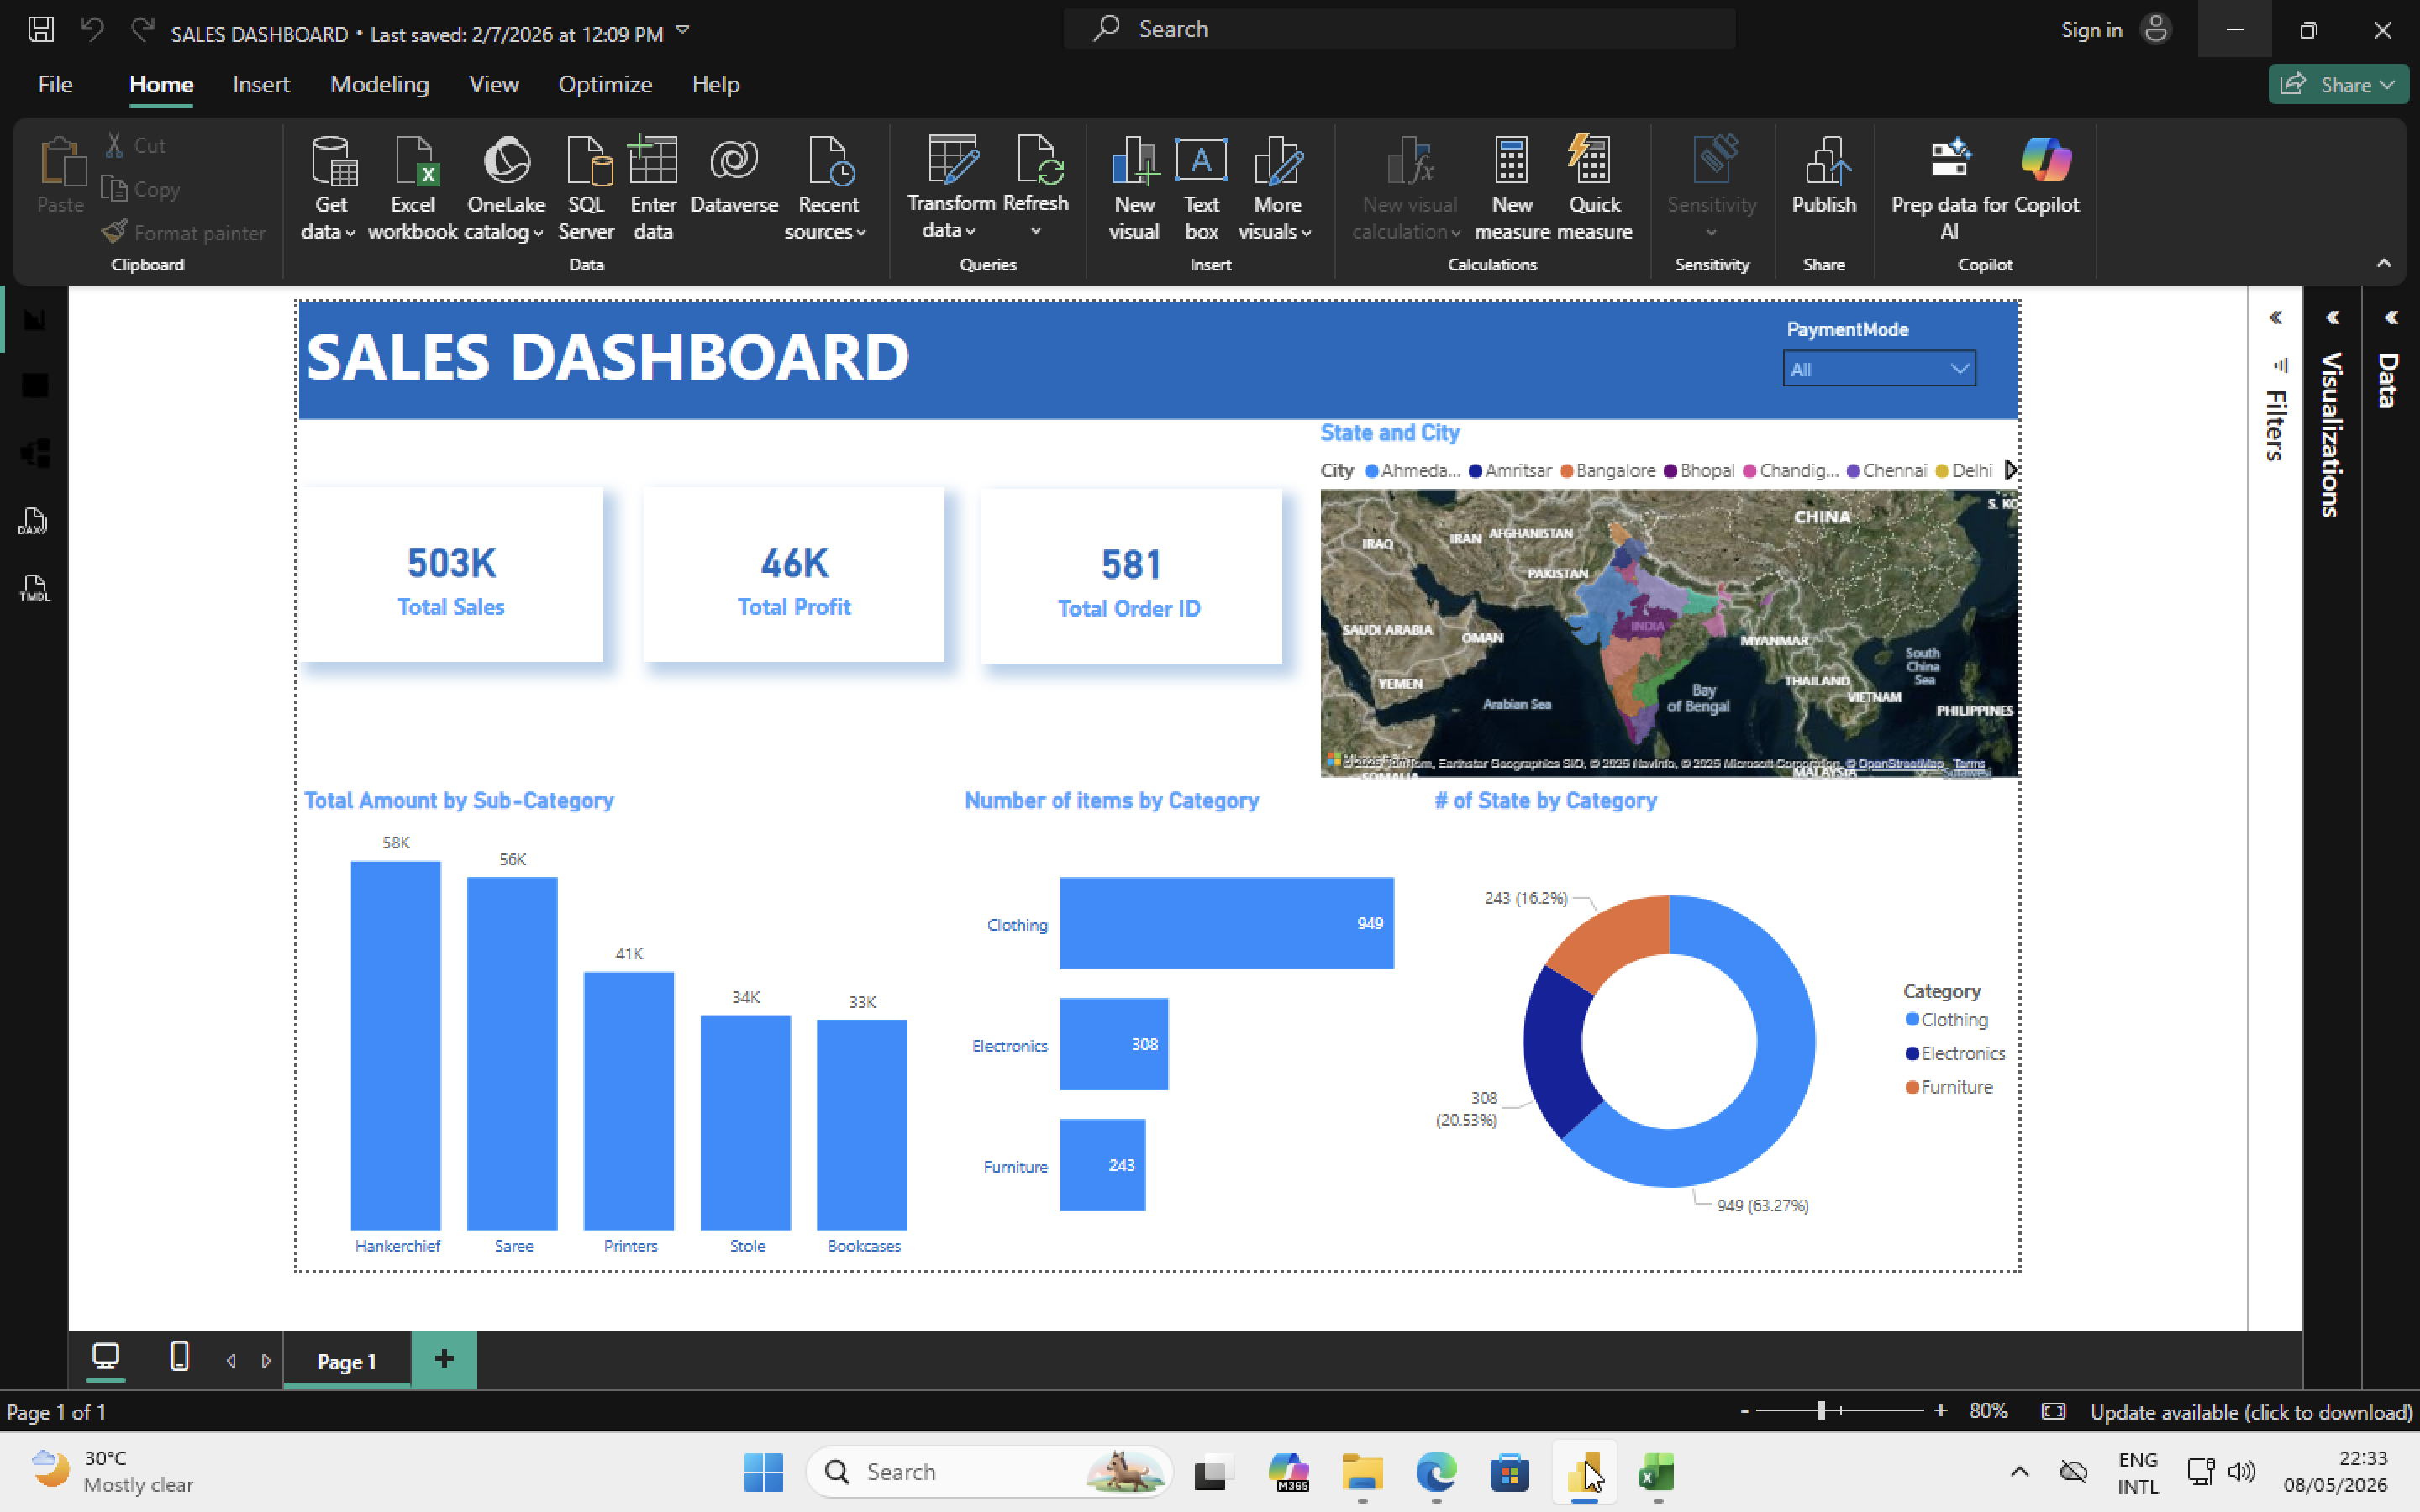

The dashboard page shown, as its layout file describes it:
{"tool":"powerbi","page":{"name":"Page 1","canvas":[1280,720],"ordinal":0},"visuals":[{"type":"card","fields":{"Values":["Budget_1.Total Sales"]},"box":[1.4,137.1,225.7,130],"z":0},{"type":"card","fields":{"Values":["Budget_1.Total Profit"]},"box":[257.1,137.1,224.3,130],"z":1000},{"type":"card","fields":{"Values":["Count(Details_1.Order ID)"]},"box":[508.6,138.6,224.3,130],"z":2000},{"type":"filledMap","fields":{"Category":["Budget_1.State"],"Series":["Budget_1.City"]},"box":[756,86.7,524,272.8],"z":3000},{"type":"clusteredColumnChart","title":"Total Amount by Sub-Category","fields":{"Category":["Budget_1.Sub-Category"],"Y":["Sum(Budget_1.Amount)"]},"box":[0,359.5,490.8,360.8],"z":4000},{"type":"donutChart","title":"# of State by Category","fields":{"Category":["Budget_1.Category"],"Y":["CountNonNull(Budget_1.State)"]},"box":[841.4,359.5,438.6,360.8],"z":5000},{"type":"textbox","box":[1.4,0,1278.6,87.1],"z":6000},{"type":"slicer","fields":{"Values":["Details_1.PaymentMode"]},"box":[1095.1,7.6,159.4,70.1],"z":7000},{"type":"clusteredBarChart","title":"Number of items by Category","fields":{"Category":["Budget_1.Category"],"Y":["CountNonNull(Budget_1.Sub-Category)"]},"box":[490.8,359.5,350.6,360.8],"z":8000}]}

Visuals, with their boxes in screenshot pixels (x1, y1, x2, y2):
card - Budget_1.Total Sales: (3, 372, 408, 606)
card - Budget_1.Total Profit: (462, 372, 865, 606)
card - Count(Details_1.Order ID): (915, 375, 1318, 609)
filledMap - Budget_1.State x Budget_1.City: (1360, 282, 2302, 772)
"Total Amount by Sub-Category" clusteredColumnChart: (0, 772, 882, 1421)
"# of State by Category" donutChart: (1513, 772, 2302, 1421)
textbox: (3, 126, 2302, 282)
slicer - Details_1.PaymentMode: (1970, 139, 2256, 265)
"Number of items by Category" clusteredBarChart: (882, 772, 1513, 1421)
